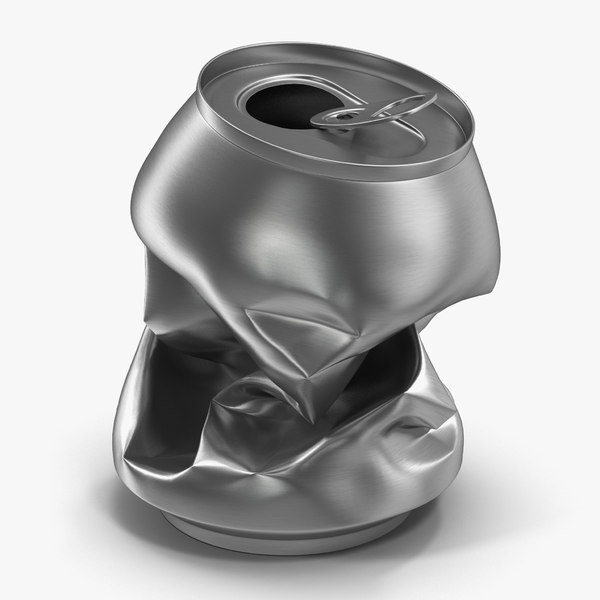can: (113, 42, 502, 556)
